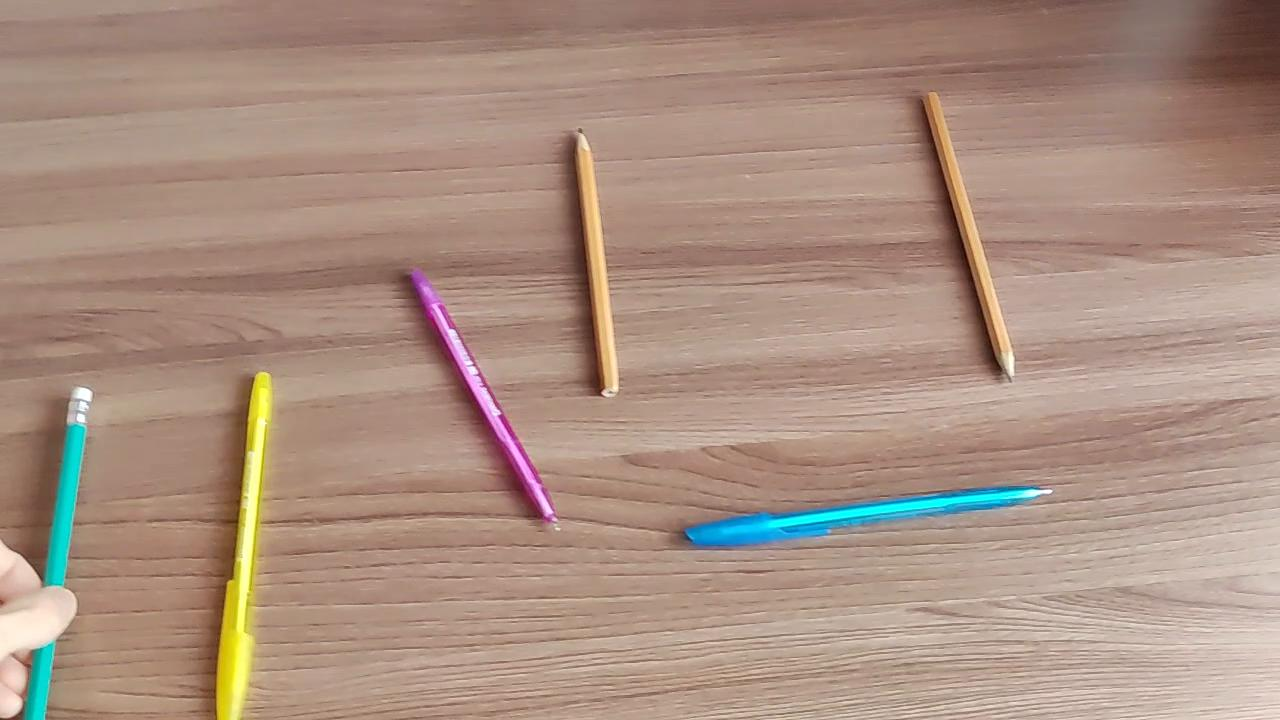pen: (404, 266, 562, 532), (680, 483, 1061, 555), (215, 367, 277, 720)
pencil: (914, 89, 1018, 390), (21, 382, 103, 720), (570, 123, 624, 400)
